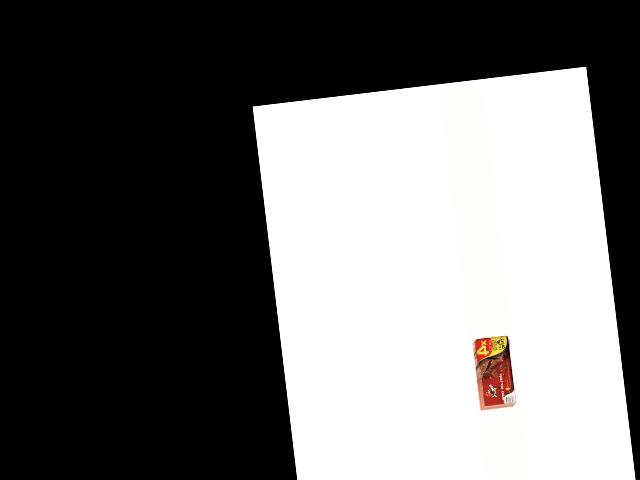chocolate: (472, 334, 518, 409)
